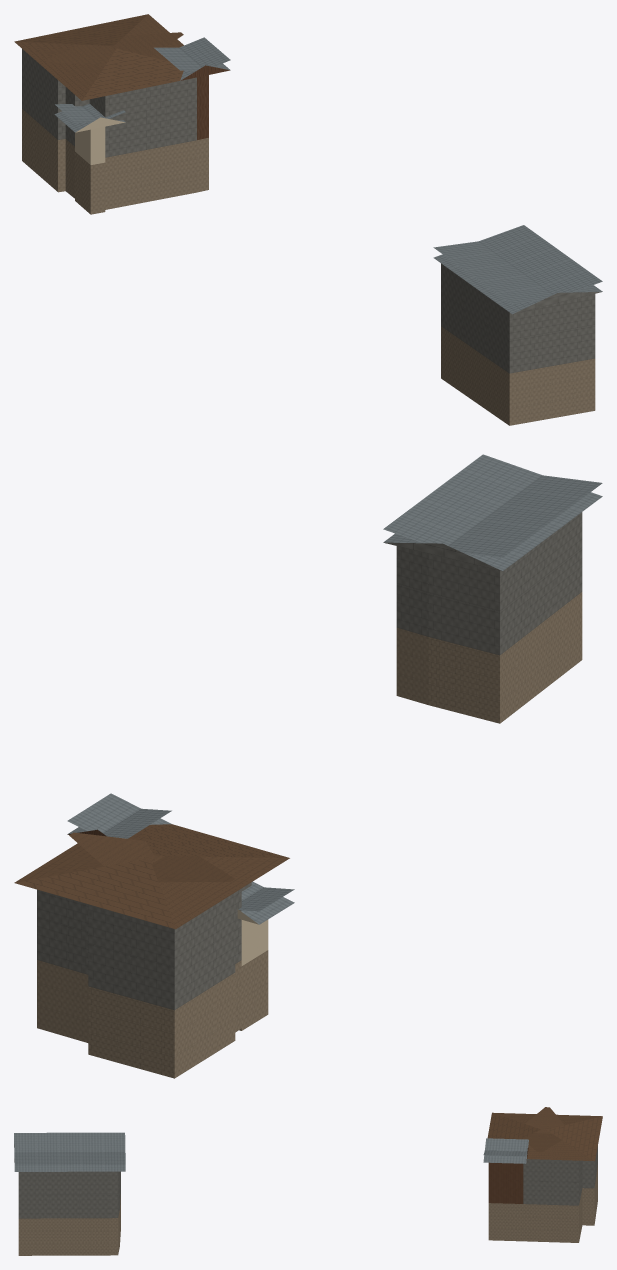
File: bld_c31_-39_466.gltf
The picture shows the model from 3 angles, top to bottom: view 1: azimuth 30°, elevation 25°; view 2: azimuth 150°, elevation 25°; view 3: azimuth 270°, elevation 25°; orthographic projection. The views are drawn at different scales.
Visible parts, largest first — view 1: bld_c31_-39_466; view 2: bld_c31_-39_466; view 3: bld_c31_-39_466.
Boxes of the visible parts, left/top/right/bottom form: bld_c31_-39_466: left=14, top=14, right=602, bottom=425; bld_c31_-39_466: left=14, top=454, right=602, bottom=1078; bld_c31_-39_466: left=14, top=1107, right=602, bottom=1255.
Bounding box in the file's own units: 19.62 × 13.5 × 72.99.
Materials: 9 (9 with a texture image).
